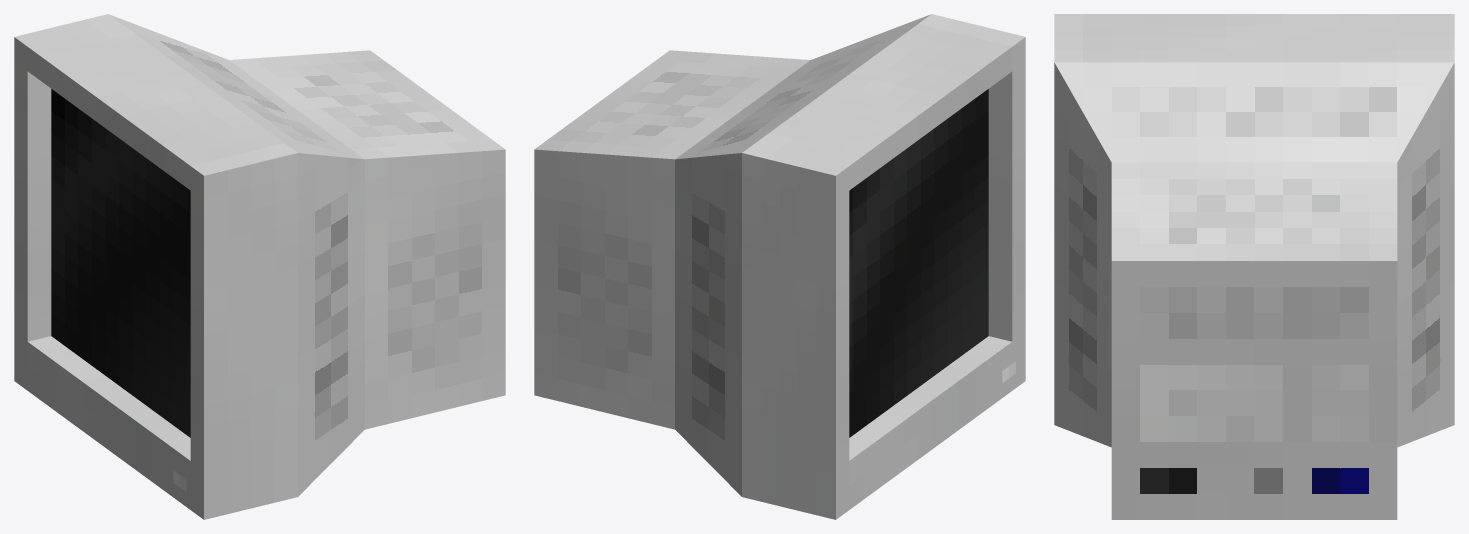
Rendered from DataloggerCRTFloor.obj.
3 renders of one model, left to right at view 1: azimuth 30°, elevation 25°; view 2: azimuth 150°, elevation 25°; view 3: azimuth 270°, elevation 25°, orthographic. The views are drawn at different scales.
Visible parts, largest first — view 1: main; view 2: main; view 3: main.
Boxes of the visible parts, x1,y1,x2,y2 form: main: (14, 14, 505, 519); main: (534, 14, 1025, 519); main: (1054, 14, 1454, 519).
Size of the model in its own units: 0.885 by 0.875 by 0.875.
2 materials, 2 textured.
